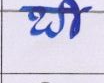i_matra: (63, 0, 80, 38)
